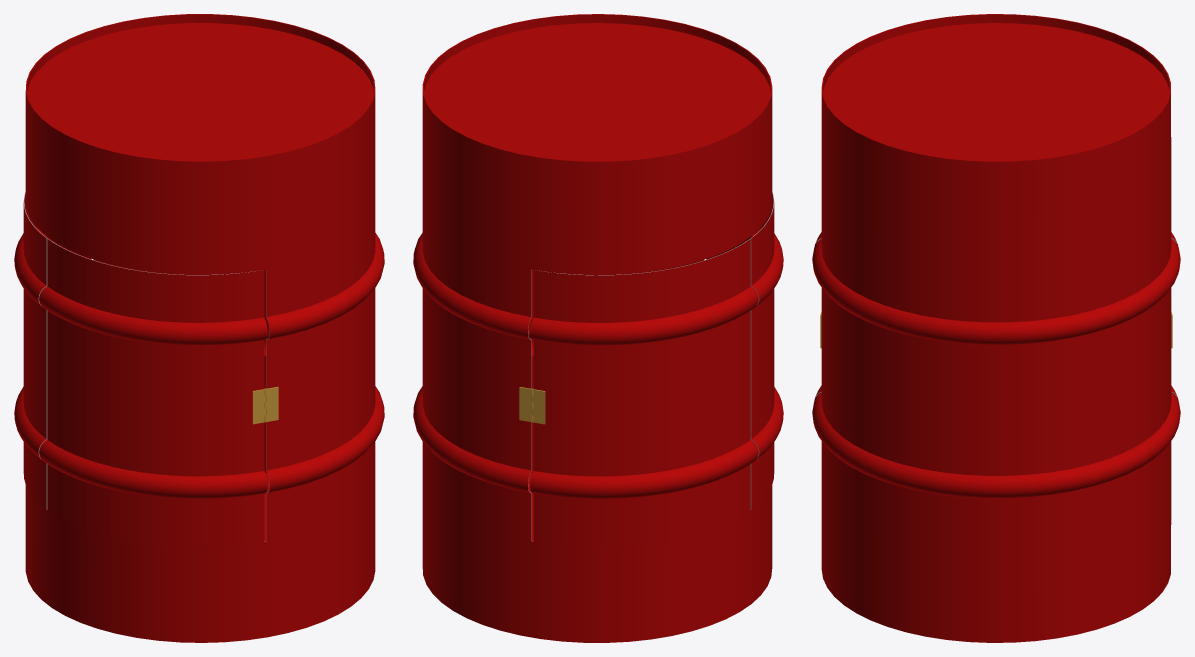
The model's file is ServiceRoboter.obj.
3 renders of one model, left to right at view 1: azimuth 30°, elevation 25°; view 2: azimuth 150°, elevation 25°; view 3: azimuth 270°, elevation 25°, orthographic.
Parts seen in each view (by area): view 1: Solid1, Solid1:1, Solid1:2; view 2: Solid1, Solid1:2, Solid1:1; view 3: Solid1.
Boxes of the visible parts, box(x1,y1,x2,y2) form: Solid1: box(25, 14, 384, 642); Solid1:1: box(39, 238, 267, 546); Solid1:2: box(14, 192, 91, 509); Solid1: box(413, 14, 772, 642); Solid1:2: box(530, 238, 758, 547); Solid1:1: box(706, 192, 783, 509); Solid1: box(812, 14, 1180, 642).
Size of the model in its own units: 0.5934 by 0.85 by 0.59.
